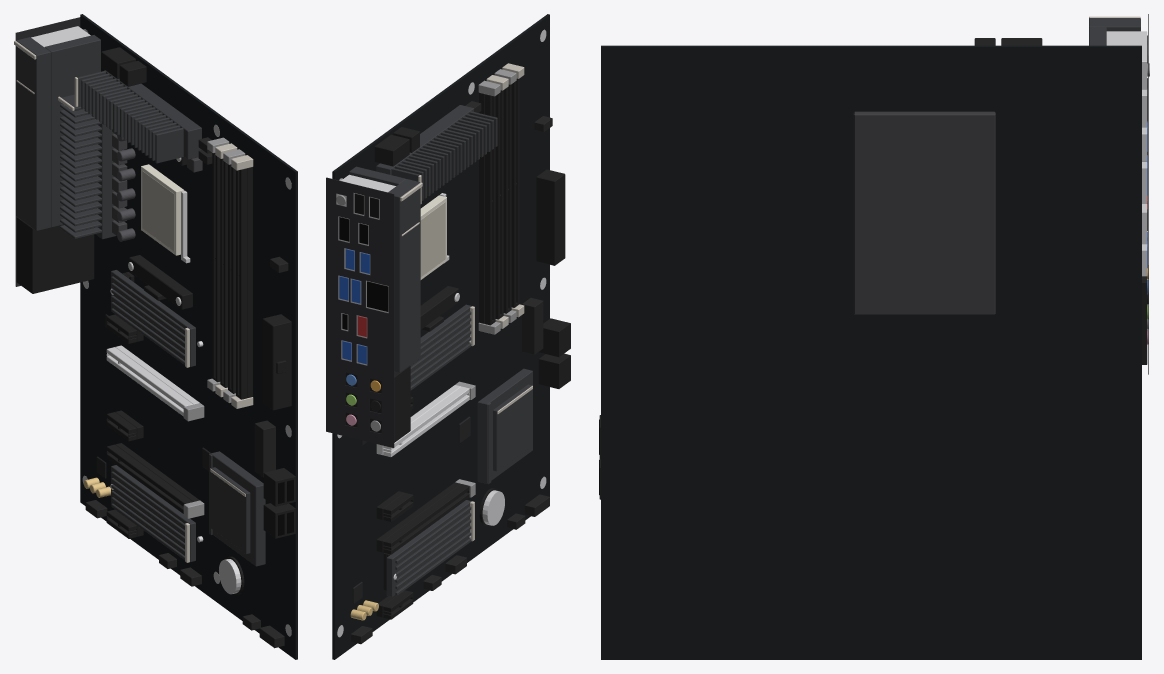
File: MB_AM4_ATX01.glb
The picture shows the model from 3 angles, left to right: view 1: azimuth 30°, elevation 25°; view 2: azimuth 150°, elevation 25°; view 3: azimuth 270°, elevation 25°; orthographic projection. The views are drawn at different scales.
Visible parts, largest first — view 1: PCB, IO_Cover, VRM_Heatsink_Top, VRM_Heatsink_Left, Rear_IO, Chipset_Heatsink, DIMM_B2, M2_0_Heatsink, M2_1_Heatsink, Socket_AM4, Headers, Board_Components (+14 smaller); view 2: PCB, IO_Shield, Rear_IO, IO_Cover, VRM_Heatsink_Top, Chipset_Heatsink, M2_1_Heatsink, DIMM_A1, Headers, M2_0_Heatsink, Power_ATX24, PCIe_4_x16 (+12 smaller); view 3: PCB, CPU_Backplate, Rear_IO, IO_Cover.
Part boxes in pixels (x1,y1,x2,y2): PCB: (80,14,297,659); IO_Cover: (14,35,100,230); VRM_Heatsink_Top: (74,70,201,163); VRM_Heatsink_Left: (58,94,115,239); Rear_IO: (16,26,94,293); Chipset_Heatsink: (209,451,265,566); DIMM_B2: (231,155,253,408); M2_0_Heatsink: (110,270,195,367); M2_1_Heatsink: (110,465,195,562); Socket_AM4: (141,164,190,263); Headers: (85,137,288,648); Board_Components: (83,129,210,497); PCB: (332,14,549,659); IO_Shield: (326,177,394,447); Rear_IO: (336,174,410,442); IO_Cover: (349,166,422,372); VRM_Heatsink_Top: (376,105,497,203); Chipset_Heatsink: (477,368,532,484); M2_1_Heatsink: (386,500,474,596); DIMM_A1: (478,80,500,334); Headers: (351,101,552,644); M2_0_Heatsink: (410,304,474,390); Power_ATX24: (536,169,565,265); PCIe_4_x16: (376,479,475,554); PCB: (601,45,1141,659); CPU_Backplate: (853,111,995,314); Rear_IO: (1106,31,1149,364); IO_Cover: (1089,16,1140,45).
Bounding box in the file's own units: 0.0486 × 0.305 × 0.2483.
